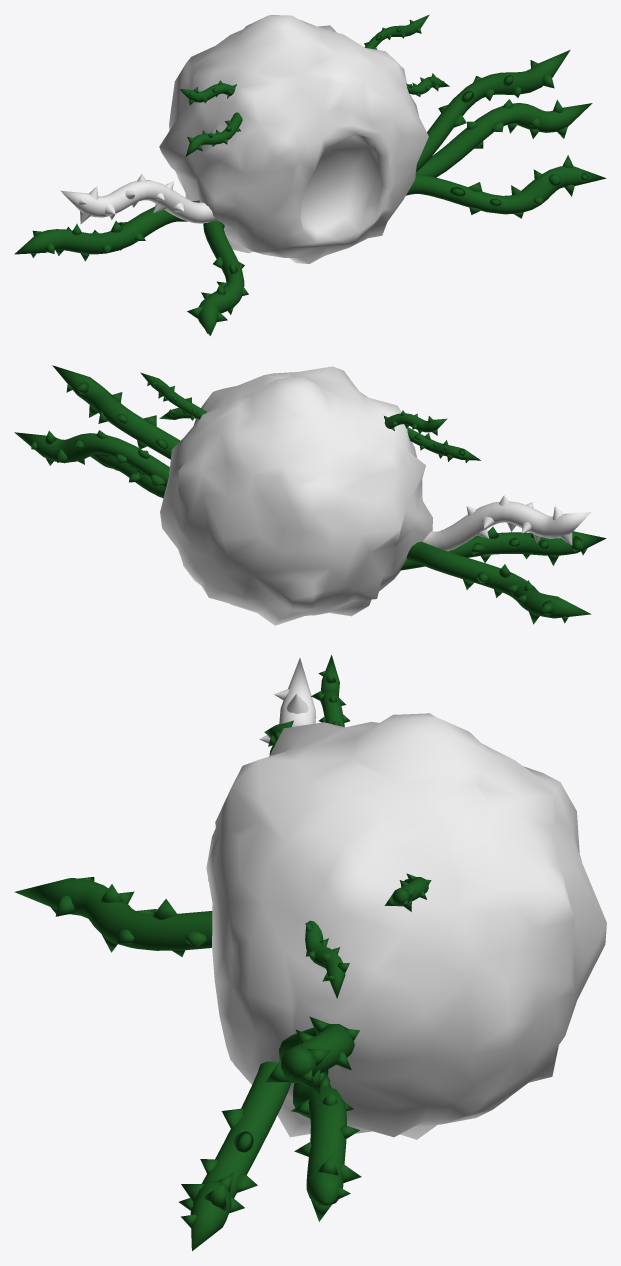
The model's file is sporepodfix.fbx.
3 views of the same model, one above another, from view 1: azimuth 30°, elevation 25°; view 2: azimuth 150°, elevation 25°; view 3: azimuth 270°, elevation 25° (orthographic). The views are drawn at different scales.
Visible parts, largest first — view 1: Cube.001; view 2: Cube.001; view 3: Cube.001.
Part boxes in pixels (x1=…): Cube.001: x1=14, y1=14, x2=606, y2=335; Cube.001: x1=14, y1=365, x2=606, y2=625; Cube.001: x1=14, y1=655, x2=606, y2=1250.
Size of the model in its own units: 429 by 162 by 225.
